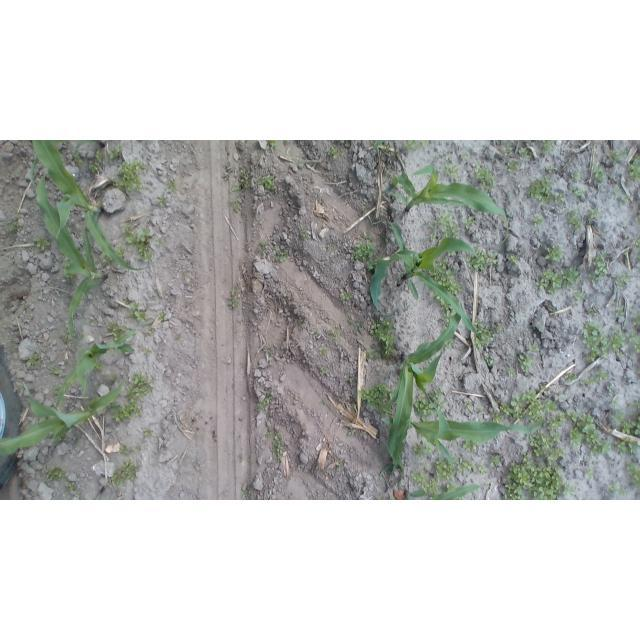Maize: (32, 141, 150, 274), (383, 301, 459, 477), (369, 223, 480, 338), (35, 173, 107, 343), (381, 401, 546, 463), (386, 164, 511, 243), (1, 376, 126, 454), (59, 332, 136, 409), (407, 481, 482, 499), (72, 141, 107, 156), (364, 140, 386, 154), (88, 485, 106, 500)
Weeds: (502, 454, 566, 500), (360, 383, 395, 418), (523, 389, 558, 419), (369, 317, 395, 357), (584, 322, 611, 360), (114, 160, 145, 192), (414, 389, 445, 420), (579, 423, 609, 455), (127, 229, 154, 262), (432, 263, 461, 291), (124, 372, 152, 400), (530, 432, 557, 457), (111, 460, 138, 484), (561, 406, 595, 424), (539, 269, 564, 293), (527, 177, 553, 199), (475, 323, 497, 347), (256, 385, 275, 412), (608, 398, 627, 424), (591, 253, 607, 282), (435, 459, 455, 482), (110, 403, 134, 422), (345, 315, 365, 337), (476, 165, 495, 188), (422, 220, 439, 244), (625, 329, 640, 356), (469, 251, 490, 270), (582, 370, 608, 385), (612, 327, 625, 355), (562, 266, 580, 286), (617, 438, 638, 455), (605, 481, 627, 497), (325, 326, 344, 344), (353, 242, 373, 259), (118, 442, 142, 456), (592, 163, 607, 185), (546, 245, 565, 262), (221, 159, 234, 183), (262, 175, 276, 197), (519, 352, 534, 372), (262, 343, 277, 363), (626, 462, 638, 487), (512, 394, 525, 417), (621, 420, 639, 436), (562, 478, 576, 498), (107, 144, 124, 160), (549, 415, 564, 433), (567, 213, 582, 231), (404, 140, 426, 152), (518, 146, 535, 161), (607, 150, 624, 165), (273, 439, 283, 464), (47, 467, 66, 480), (227, 197, 242, 213), (27, 353, 42, 369), (414, 443, 431, 457), (455, 459, 473, 472), (629, 159, 639, 182), (616, 273, 631, 288), (132, 308, 147, 323), (36, 238, 53, 251), (107, 325, 127, 336), (412, 471, 427, 485), (506, 160, 519, 176), (568, 427, 580, 444), (340, 289, 354, 303), (444, 223, 458, 237), (275, 248, 289, 262), (265, 427, 280, 440), (445, 164, 460, 177), (562, 371, 579, 382), (584, 467, 597, 481), (436, 212, 450, 225), (587, 347, 599, 362), (541, 140, 556, 152), (240, 171, 250, 189), (93, 147, 105, 162), (422, 481, 438, 492), (47, 364, 63, 375), (533, 215, 545, 229), (346, 424, 358, 438), (140, 427, 154, 439), (583, 307, 598, 318), (571, 186, 586, 197), (610, 185, 623, 197), (318, 345, 331, 357), (500, 403, 512, 416), (615, 303, 626, 317), (569, 171, 583, 182), (156, 310, 167, 324), (632, 416, 640, 435), (230, 289, 238, 308), (504, 142, 513, 158), (462, 440, 474, 452), (319, 364, 330, 377), (115, 244, 126, 257), (361, 230, 375, 240), (293, 320, 307, 330), (142, 347, 154, 358), (630, 313, 640, 326), (365, 260, 375, 273), (589, 207, 600, 218), (620, 193, 632, 203), (329, 148, 339, 160), (507, 367, 517, 379), (230, 181, 240, 193), (89, 161, 99, 173), (632, 401, 640, 415), (348, 373, 356, 387), (66, 482, 77, 492), (366, 349, 376, 360), (267, 140, 278, 150), (493, 413, 504, 423), (73, 154, 83, 165), (488, 254, 499, 264), (554, 193, 564, 204), (166, 181, 176, 192), (466, 216, 475, 228), (300, 228, 309, 240), (326, 242, 335, 254), (490, 455, 500, 465), (145, 325, 155, 335), (528, 343, 539, 352), (509, 255, 520, 264), (477, 465, 488, 474), (237, 452, 244, 465), (158, 195, 167, 205), (573, 291, 583, 300), (635, 208, 640, 226), (319, 398, 329, 407), (312, 327, 321, 337), (241, 488, 249, 499), (460, 152, 468, 163), (538, 383, 549, 391), (445, 483, 456, 491), (102, 254, 110, 265), (74, 491, 83, 500), (122, 226, 131, 235), (155, 236, 164, 245), (632, 237, 640, 247), (78, 333, 86, 343), (172, 332, 182, 340), (10, 221, 18, 231), (351, 400, 357, 413), (486, 357, 494, 366), (259, 242, 267, 251), (632, 252, 640, 261), (336, 461, 344, 470), (463, 401, 471, 410), (556, 390, 564, 399), (606, 384, 614, 393), (62, 334, 70, 343), (182, 267, 189, 277), (253, 178, 260, 188), (54, 385, 61, 395), (546, 166, 554, 174), (150, 294, 158, 302), (477, 405, 483, 415), (110, 375, 118, 382), (624, 249, 629, 259), (123, 299, 130, 306), (358, 428, 364, 435), (335, 141, 343, 146), (521, 141, 534, 144)
